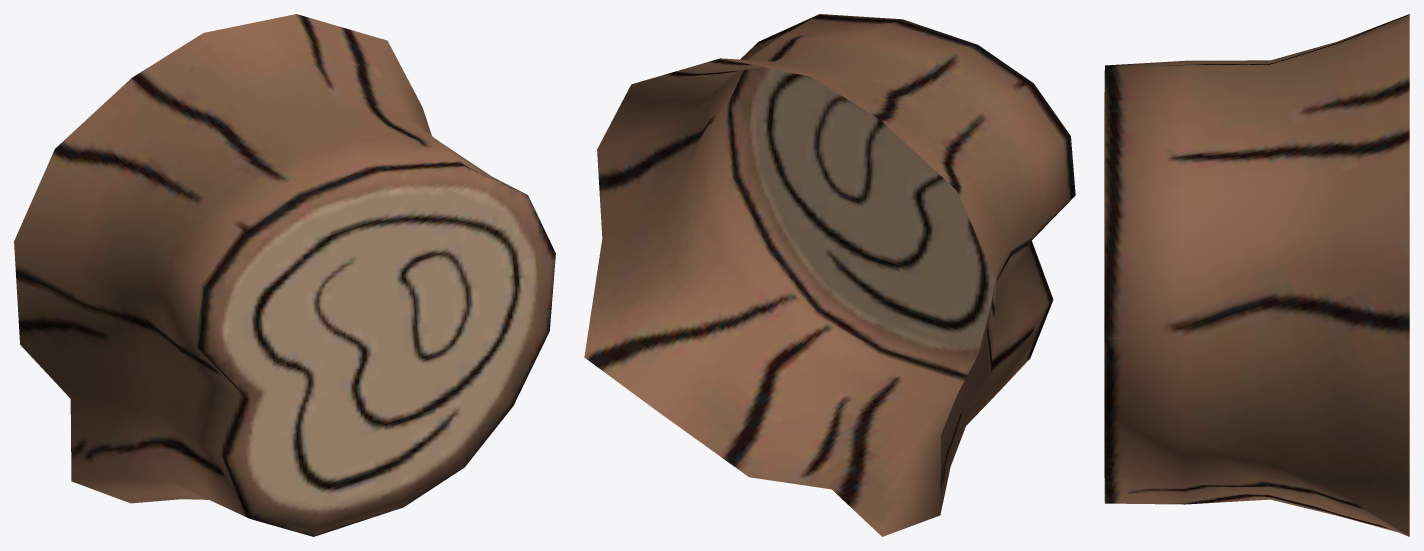
Rendered from SM_ObstacleTrunk.fbx.
3 renders of one model, left to right at view 1: azimuth 30°, elevation 25°; view 2: azimuth 150°, elevation 25°; view 3: azimuth 270°, elevation 25°, orthographic. The views are drawn at different scales.
Visible parts, largest first — view 1: SM_ObstacleTrunk; view 2: SM_ObstacleTrunk; view 3: SM_ObstacleTrunk.
Boxes of the visible parts, x1,y1,x2,y2 form: SM_ObstacleTrunk: [14, 14, 555, 536]; SM_ObstacleTrunk: [584, 14, 1075, 536]; SM_ObstacleTrunk: [1104, 14, 1409, 536].
Size of the model in its own units: 0.806 by 0.8273 by 0.4491.
1 material, 1 textured.
